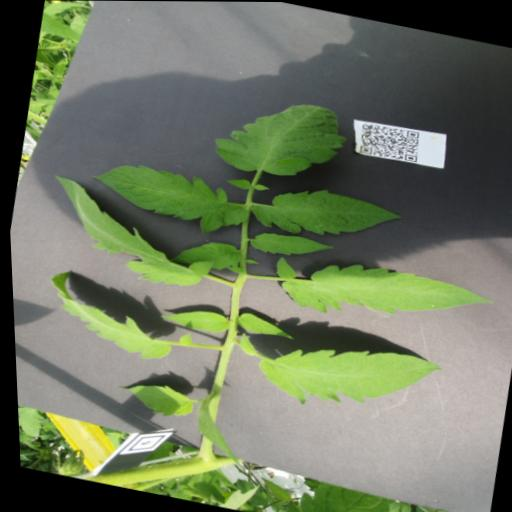Healthy: (265, 246, 497, 347), (34, 173, 224, 294), (246, 324, 443, 430), (206, 86, 354, 190), (80, 155, 253, 242), (34, 266, 182, 365), (243, 175, 404, 254), (110, 376, 193, 422), (244, 226, 334, 265), (154, 301, 228, 337), (231, 310, 296, 341), (14, 405, 43, 439), (253, 476, 289, 503)
